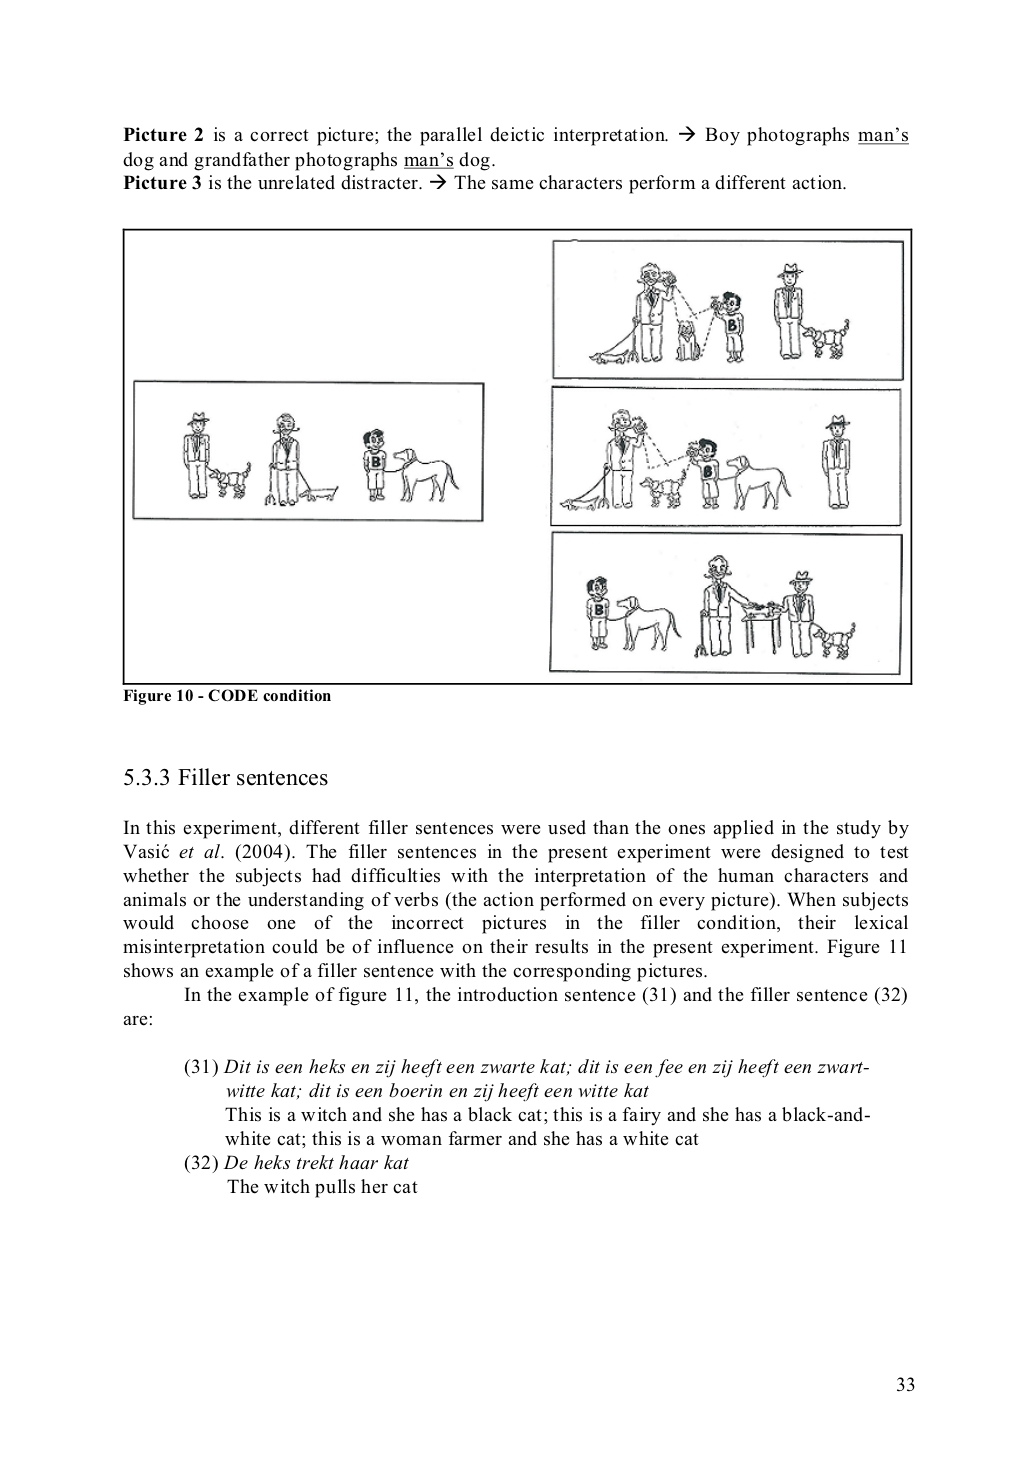figure: (122, 228, 912, 685)
